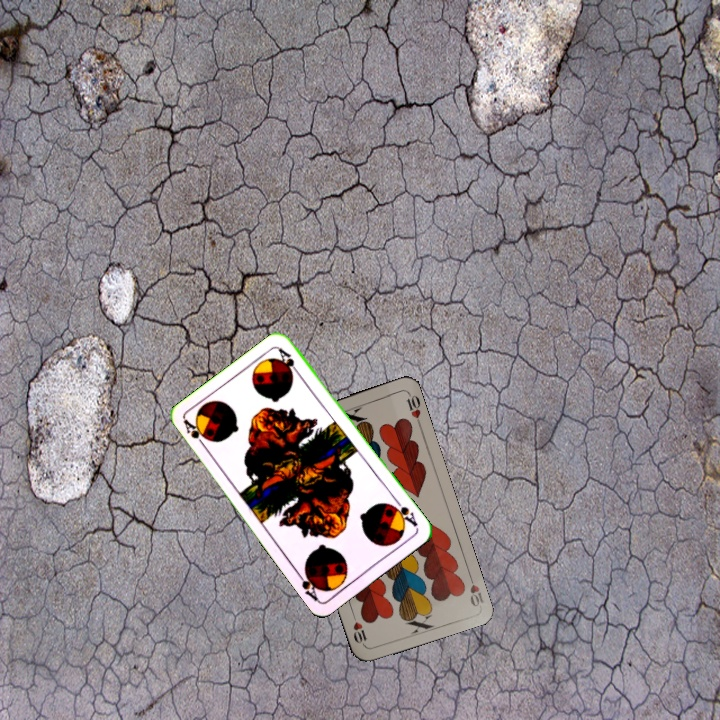H10: (465, 569, 486, 609)
SA: (387, 495, 421, 530), (179, 416, 212, 451)
